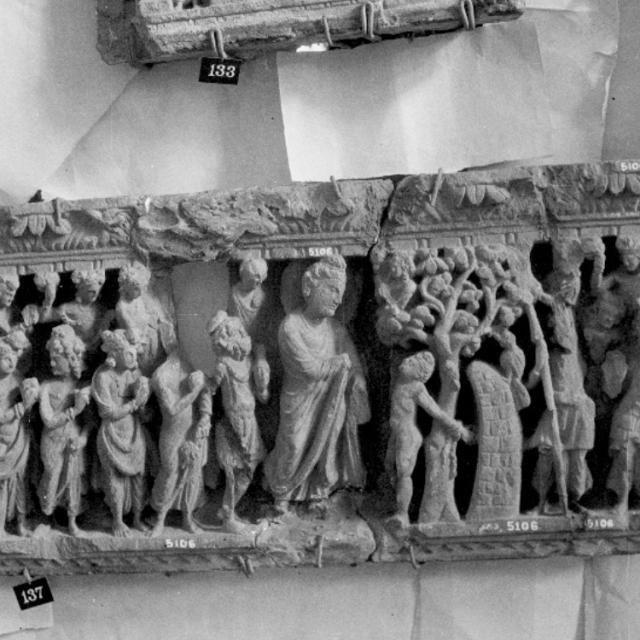buddha-standing: (280, 252, 371, 511)
